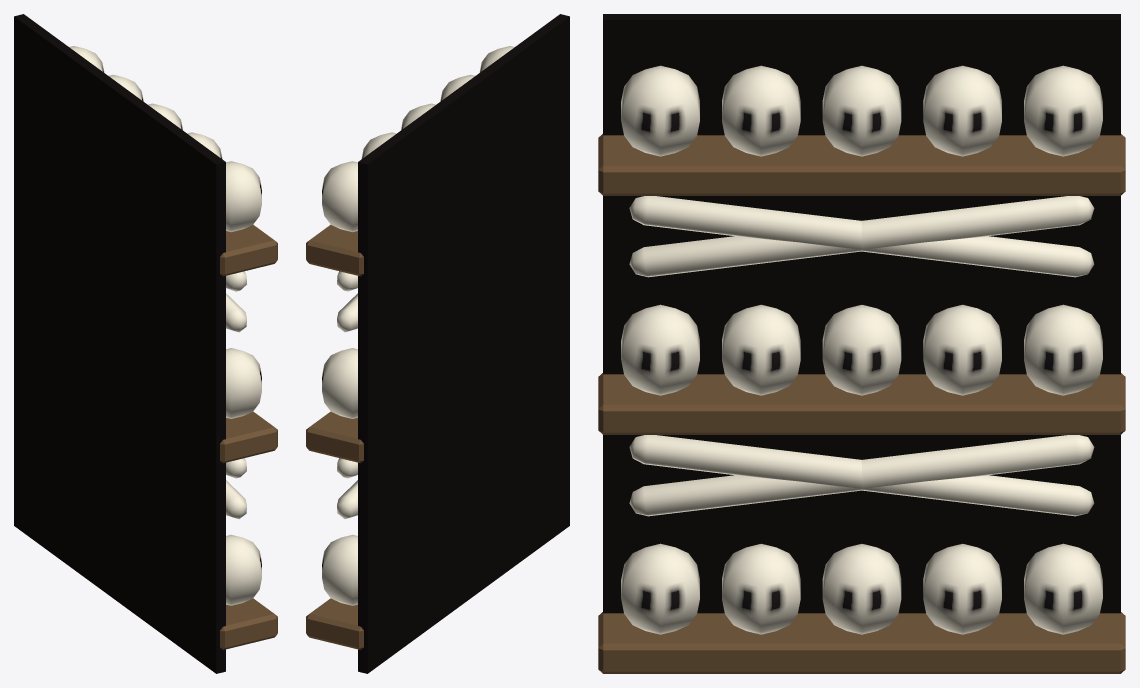
File: prop_ossuarytrue_28ab.glb
3 views of the same model, side by side, from view 1: azimuth 30°, elevation 25°; view 2: azimuth 150°, elevation 25°; view 3: azimuth 270°, elevation 25° (orthographic). The views are drawn at different scales.
Visible parts, largest first — view 1: prop_ossuarytrue_28ab; view 2: prop_ossuarytrue_28ab; view 3: prop_ossuarytrue_28ab.
Part boxes in pixels (x1,y1,x2,y2): prop_ossuarytrue_28ab: (14,14,277,673); prop_ossuarytrue_28ab: (306,14,569,673); prop_ossuarytrue_28ab: (598,14,1125,673).
Bounding box in the file's own units: 0.1857 × 1.33 × 0.9722.
1 material, 1 textured.
